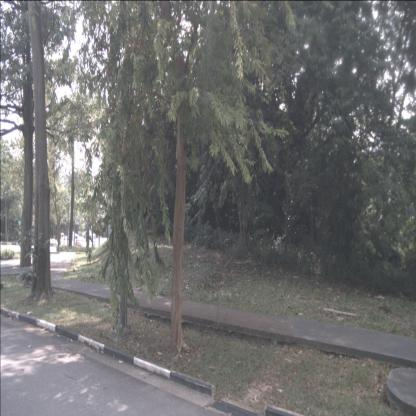vehicle-car: (75, 239, 82, 247)
